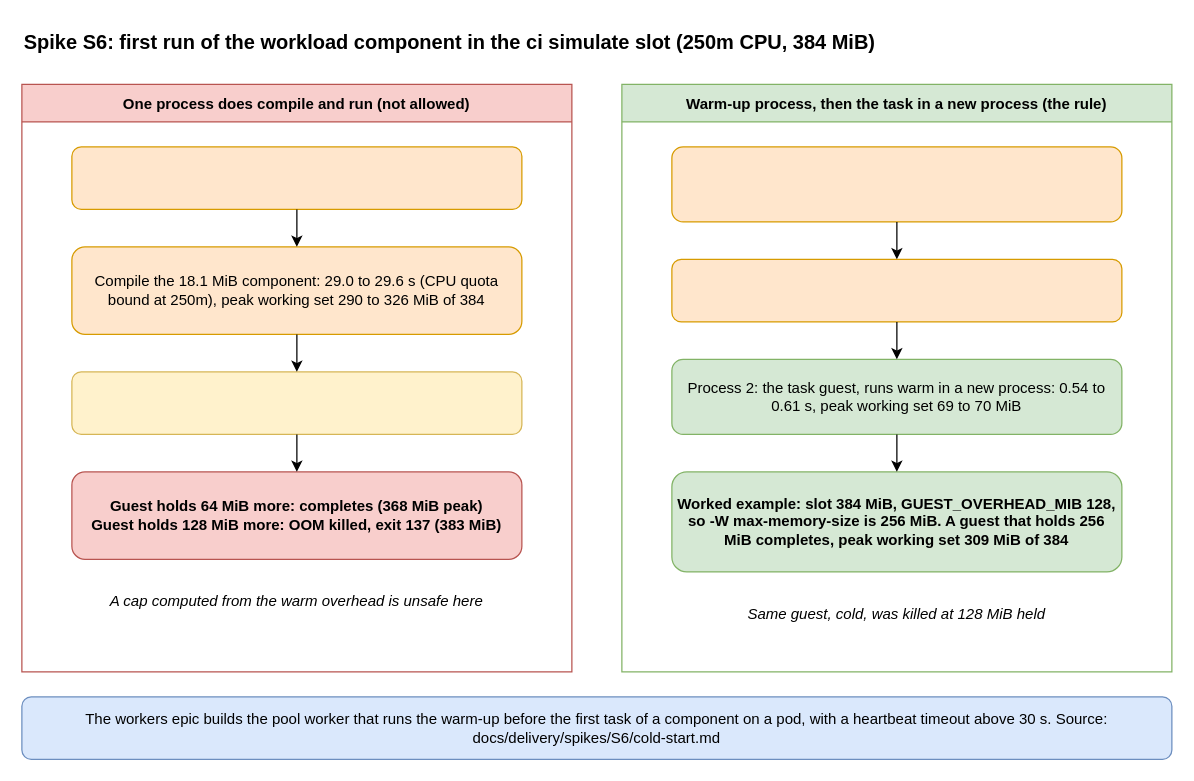
The diagram is 1194 pixels wide and 781 high, and some of its shapes have lost their labels. Here are the shapes that lost their labels. From the top down, the centre of each, then its label:
point (296, 177): Process 1: wasmtime run guest.wasm empty module cache
point (896, 184): Process 1: warm-up, runs noop fills the module cache (10.6 MiB), no -W timeout
point (896, 290): About 29 s once per component per pod, then it exits and frees its memory
point (296, 402): Compile memory is not given back before the guest starts
